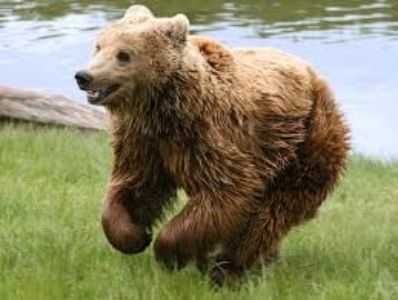bear: (69, 5, 344, 285)
